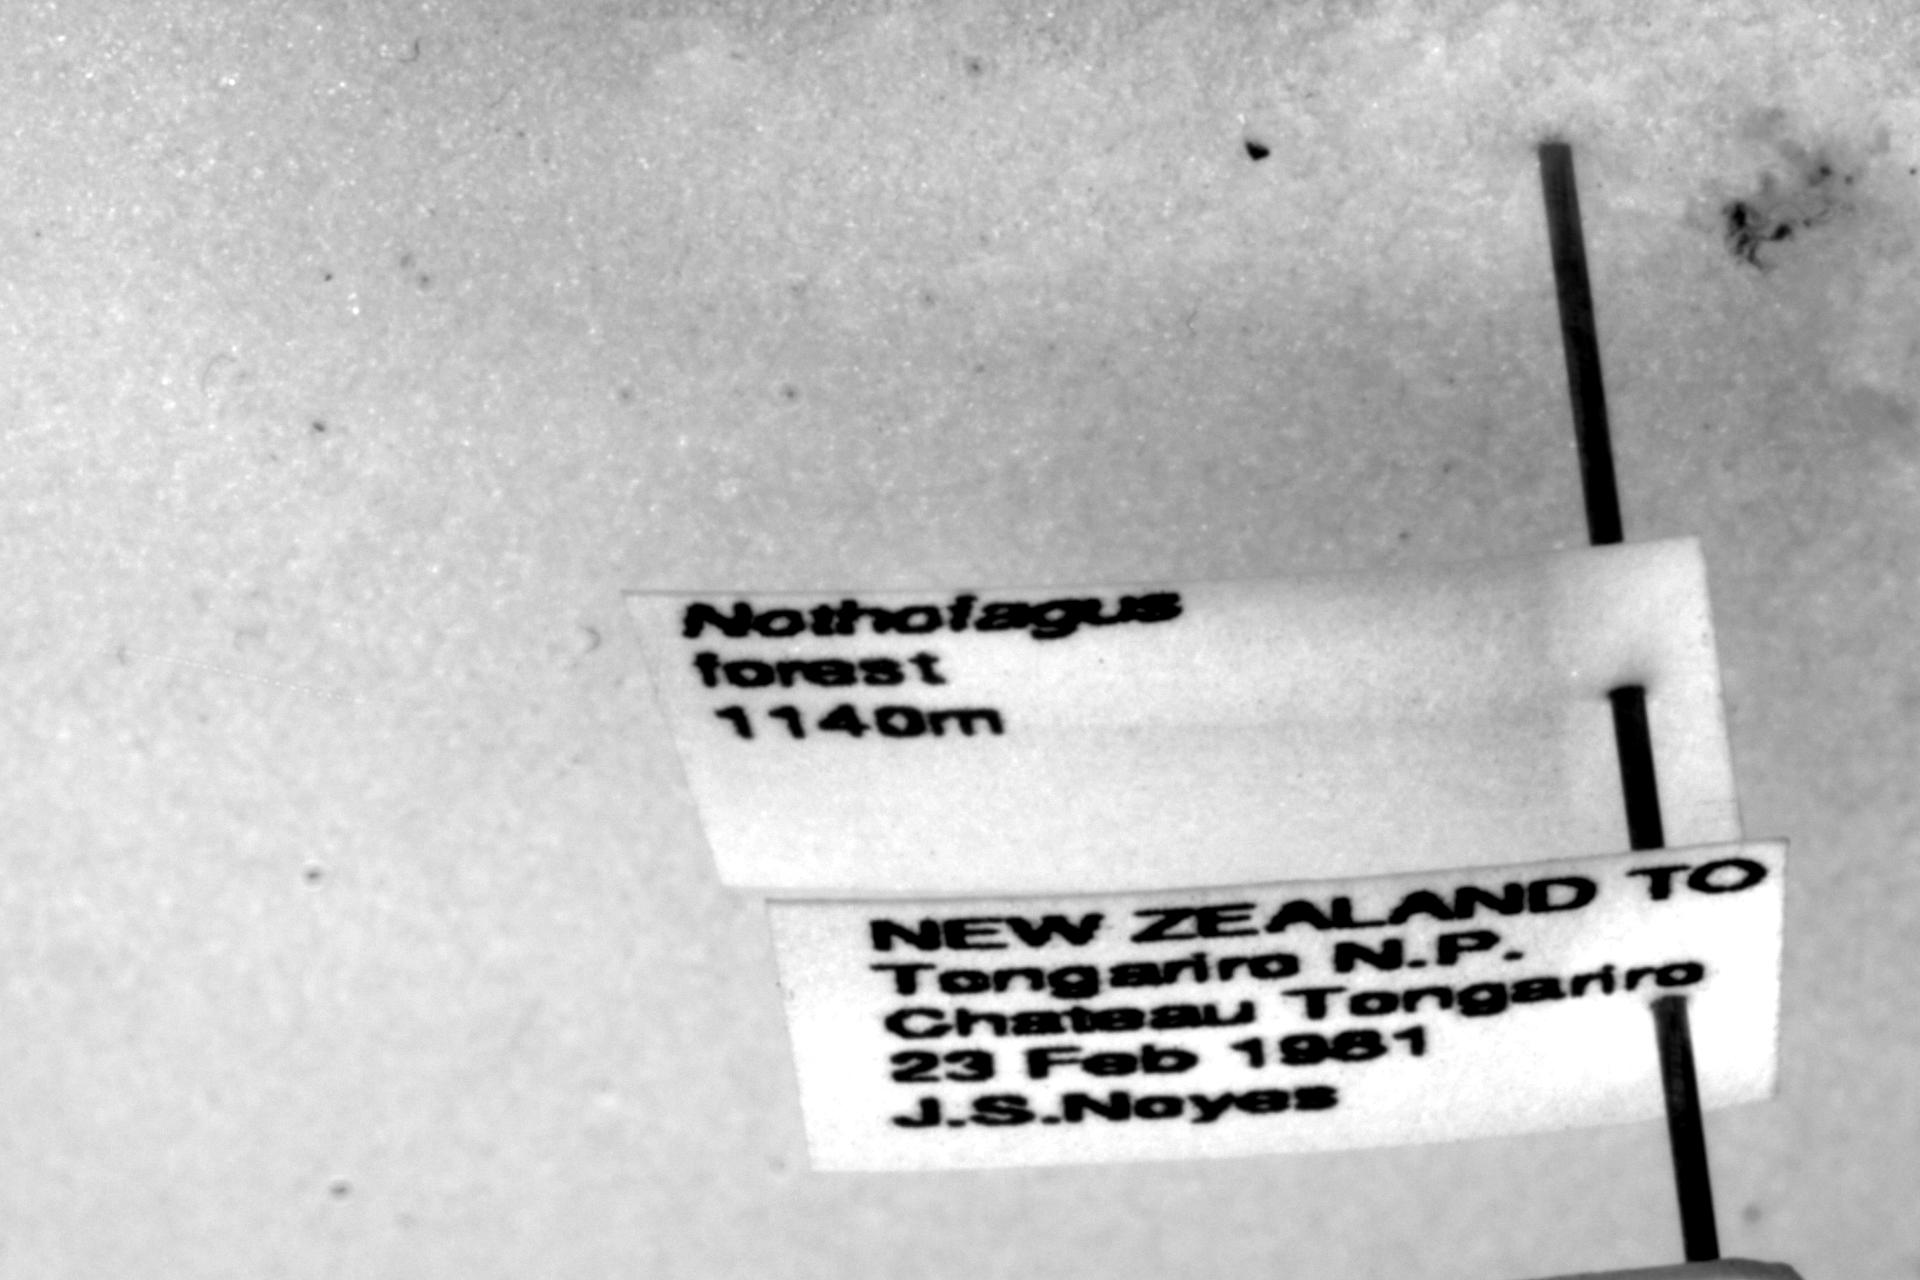typed_label: (626, 536, 1740, 896), (769, 840, 1786, 1170)
